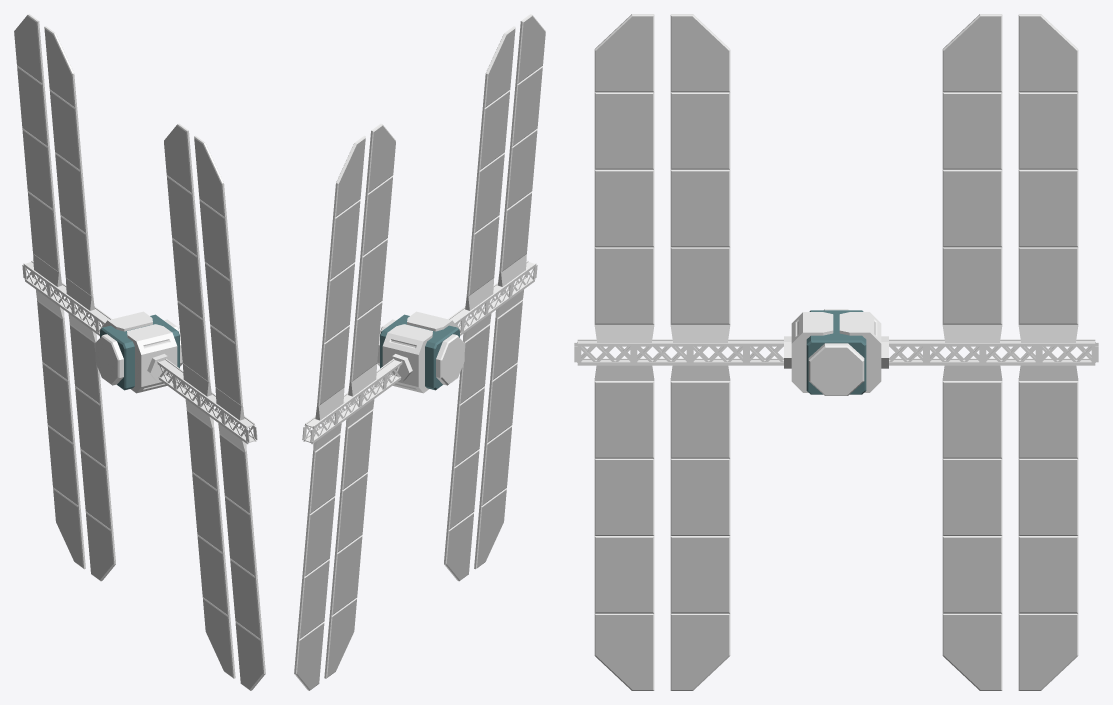
The model's file is ss_solar1.glb.
3 views of the same model, side by side, from view 1: azimuth 30°, elevation 25°; view 2: azimuth 150°, elevation 25°; view 3: azimuth 270°, elevation 25° (orthographic). The views are drawn at different scales.
Parts seen in each view (by area): view 1: Cube.005; view 2: Cube.005; view 3: Cube.005.
Part boxes in pixels (box(x1,y1,x2,y2)): Cube.005: box(14, 14, 265, 690); Cube.005: box(294, 14, 545, 690); Cube.005: box(574, 14, 1098, 690).
Size of the model in its own units: 3 by 23.92 by 17.5.
